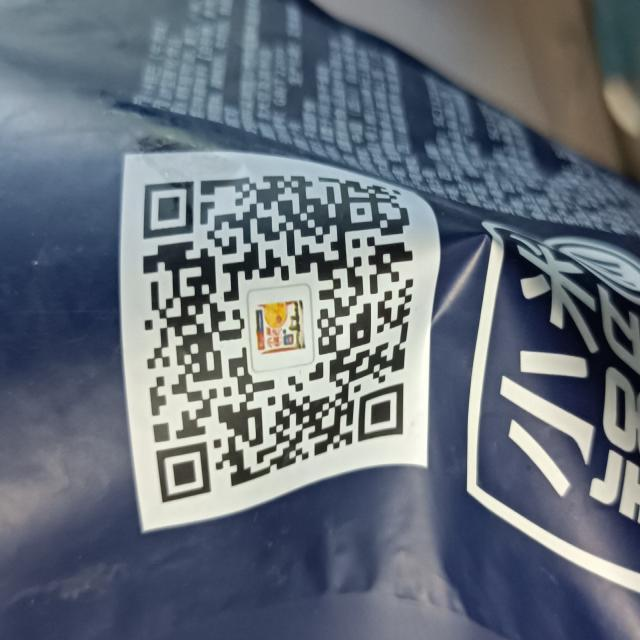qr_code: (136, 169, 416, 506)
